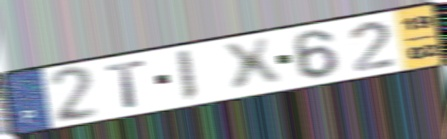2: (48, 62, 102, 128), (346, 19, 399, 74)
6: (291, 27, 343, 82)
I: (174, 48, 200, 104)
T: (103, 57, 149, 110)
X: (218, 35, 286, 95)
